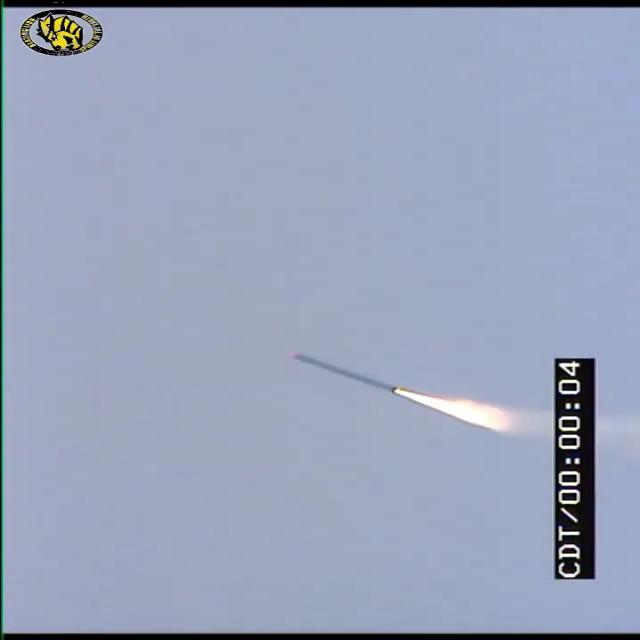Missile: (281, 348, 403, 400)
